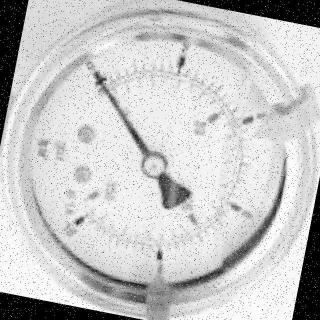gauge: (0, 0, 320, 320), (55, 192, 113, 249), (78, 56, 115, 92), (135, 147, 171, 183), (87, 66, 107, 88)
